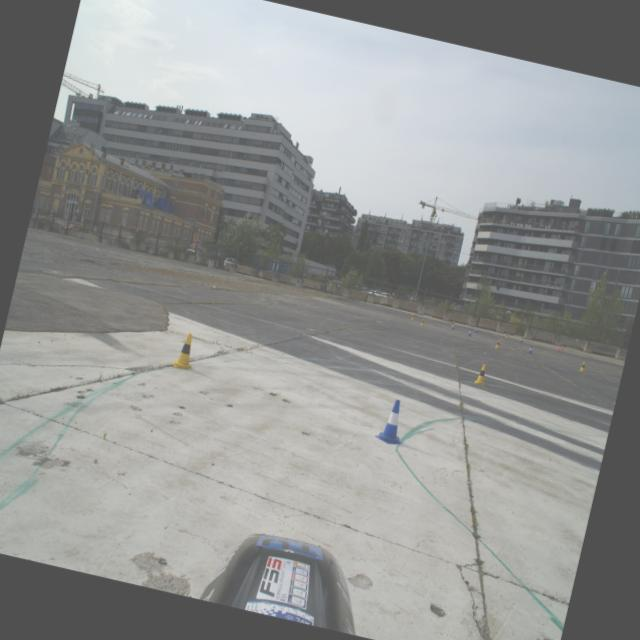blue_cone: (373, 396, 411, 447), (526, 344, 534, 354), (450, 322, 455, 330), (467, 328, 472, 336), (473, 326, 478, 333), (520, 336, 524, 343)
orange_cone: (556, 344, 560, 351), (560, 344, 564, 351)
yellow_cone: (170, 331, 199, 371), (473, 362, 490, 386), (578, 360, 587, 372), (494, 338, 501, 348), (419, 318, 425, 327), (410, 312, 414, 320), (504, 332, 508, 338), (451, 321, 454, 326)
